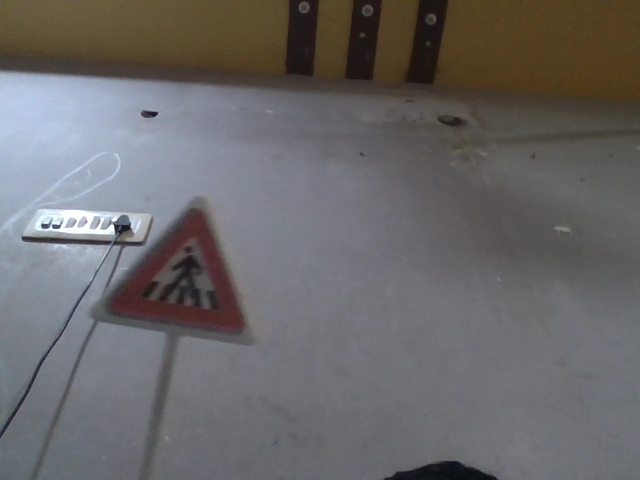crossing: (113, 203, 244, 325)
